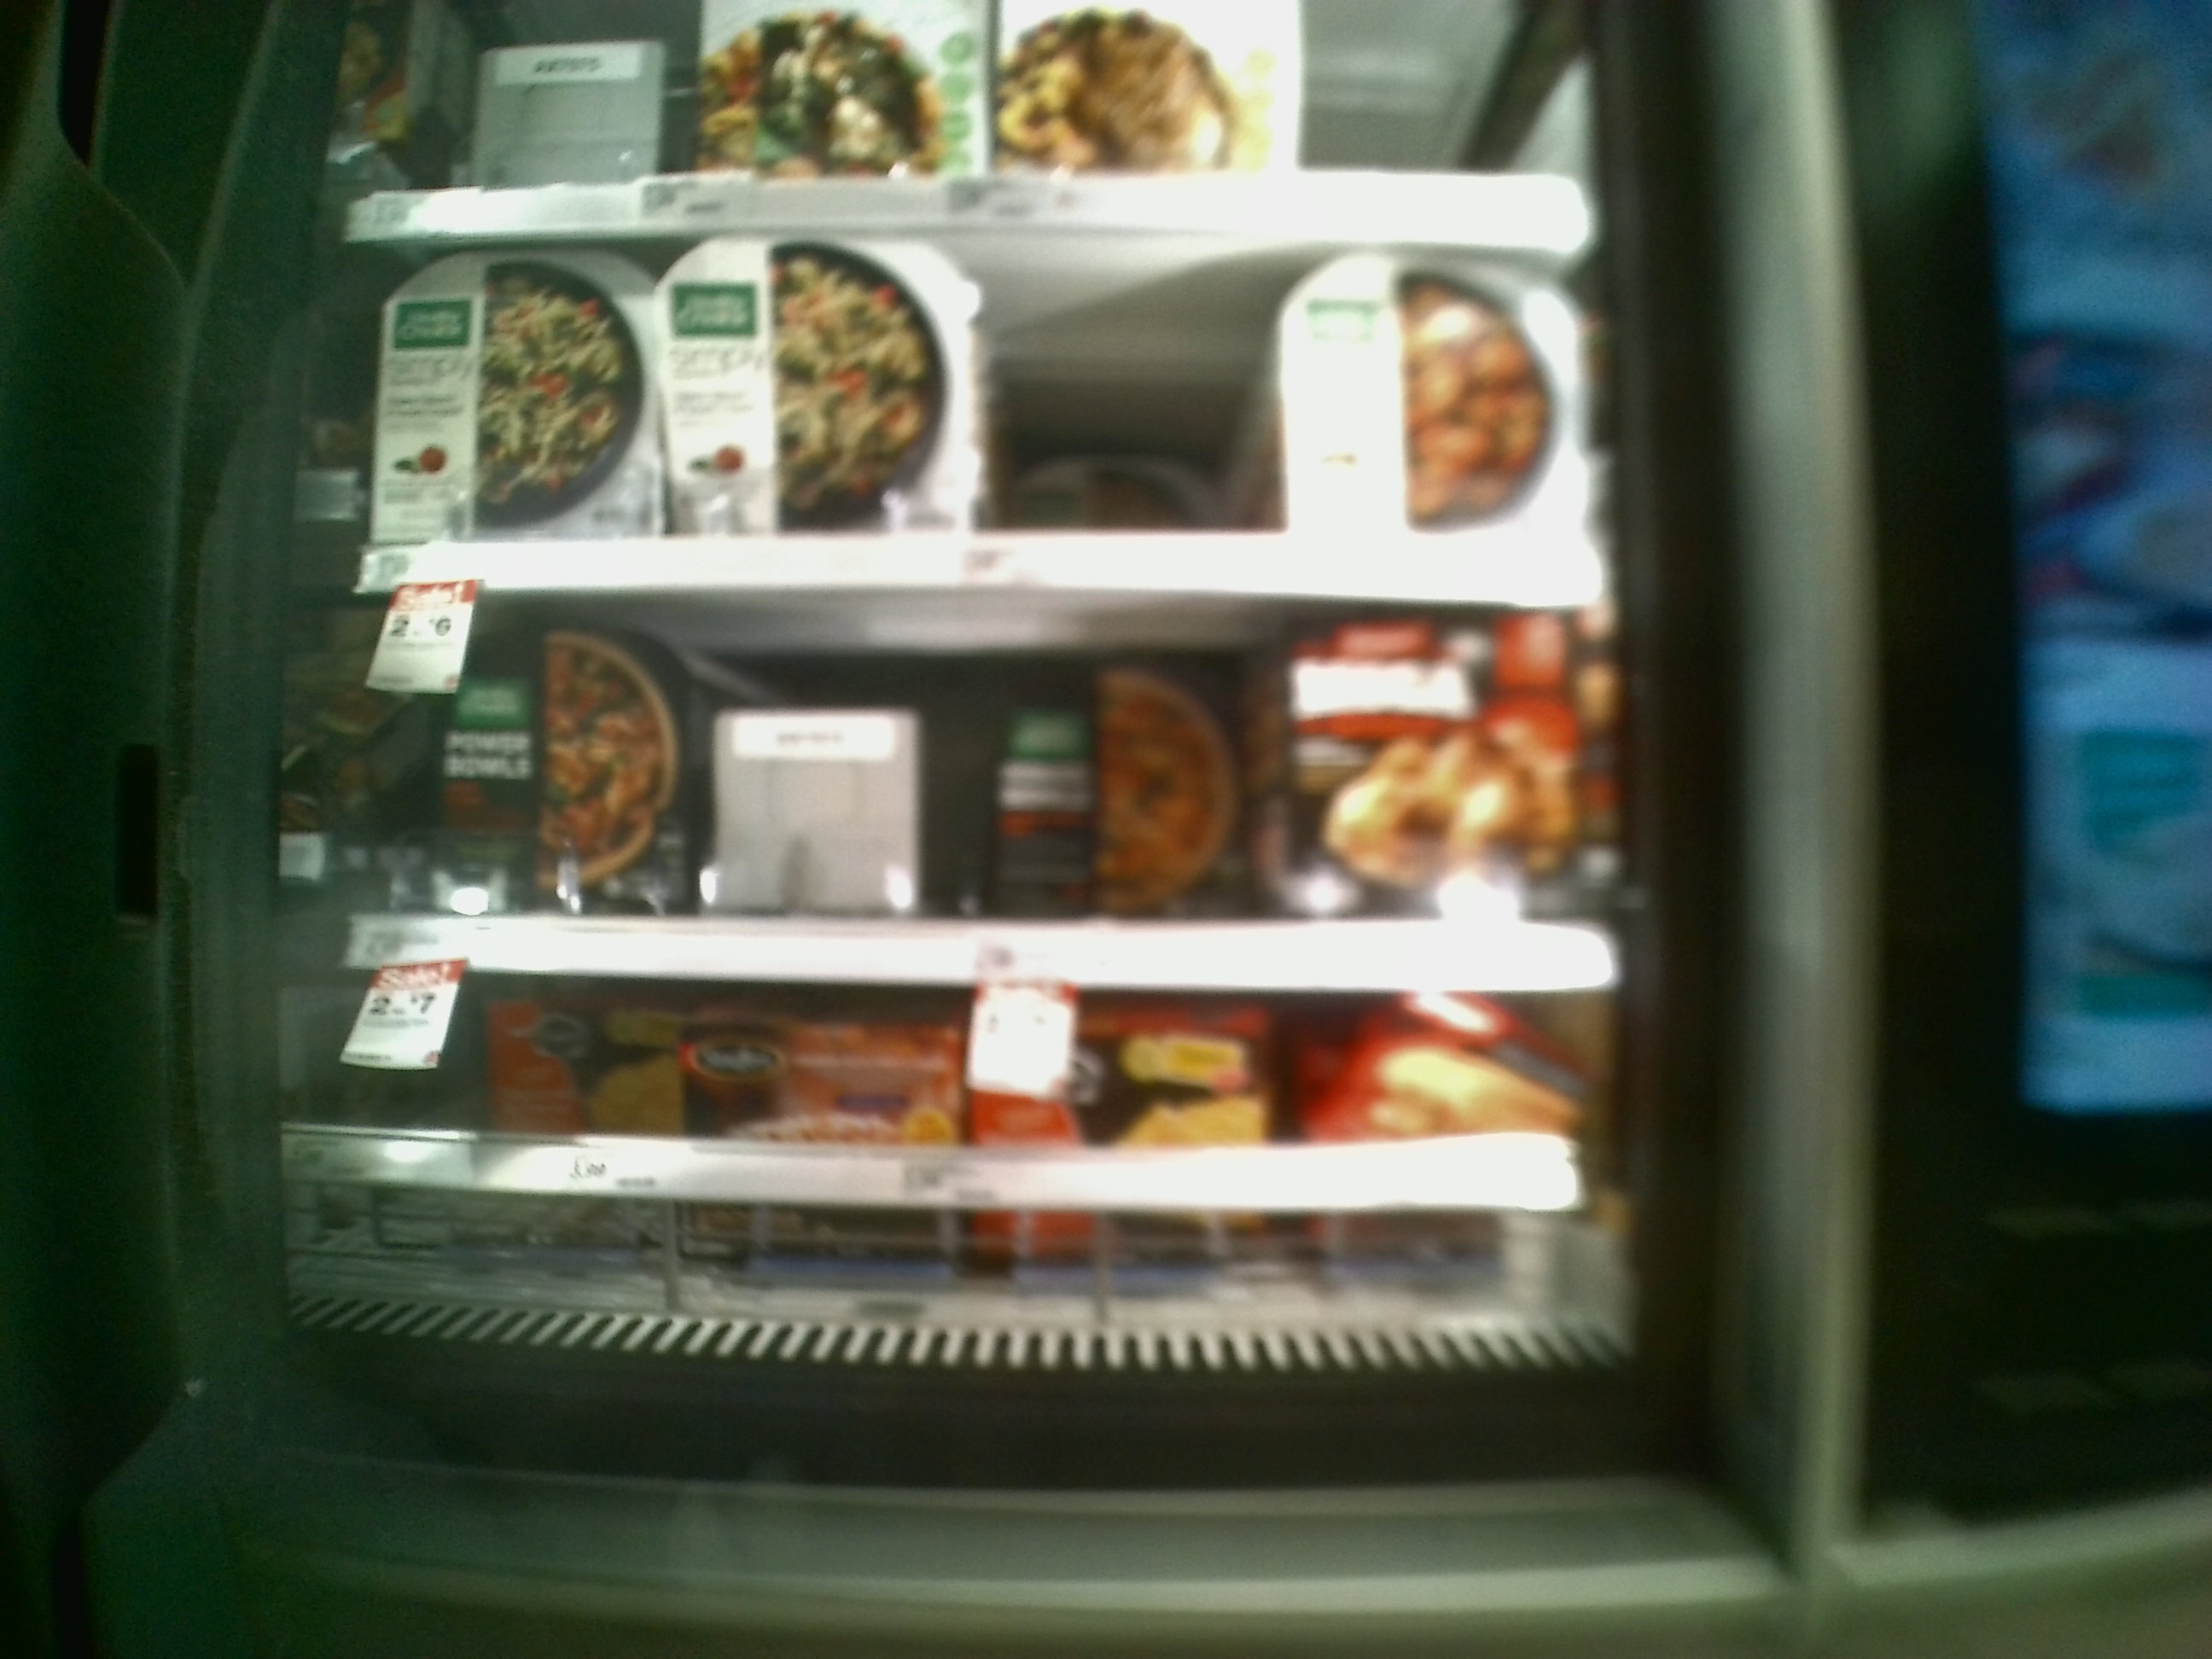pizza: (266, 629, 681, 918), (1264, 603, 1602, 903), (320, 251, 664, 537), (657, 240, 972, 526), (1277, 260, 1585, 518), (988, 647, 1256, 915), (1005, 10, 1299, 171), (698, 0, 974, 166), (1014, 457, 1224, 518)
